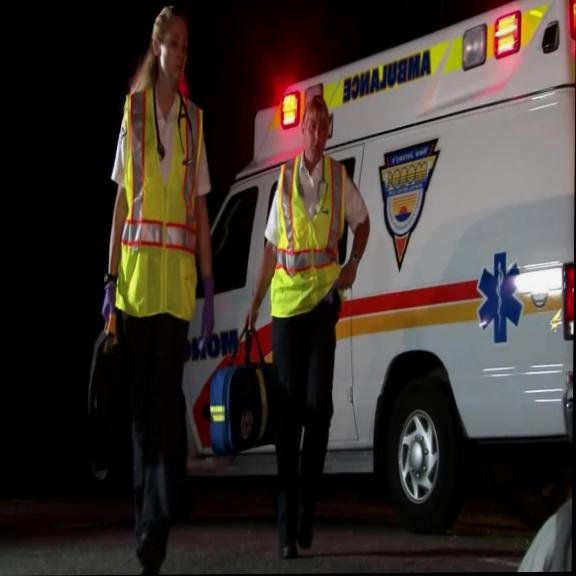safety_vest: (114, 87, 205, 319), (270, 150, 345, 318)
